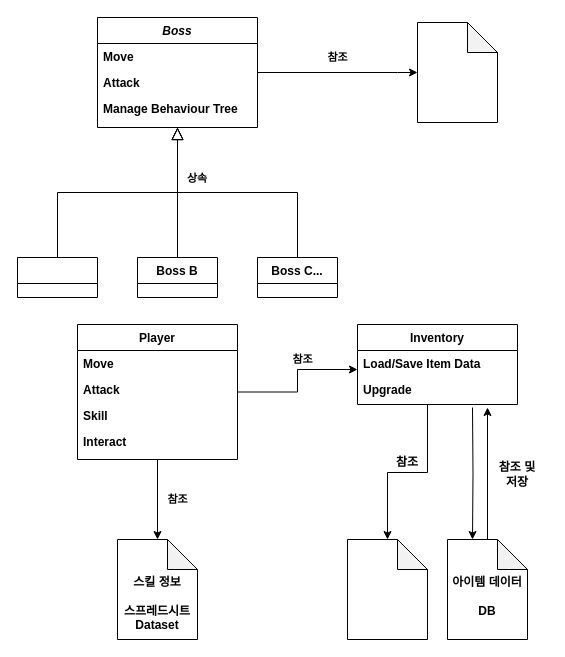
This 565x657 diagram has some shape labels left out. The shapes that lost their labels are listed below. From the top down, each one's centre as x and y in pixels, then its label:
the point at 457,72: 보스 정보 스프레드시트 Dataset
the point at 57,277: Boss A
the point at 387,589: 아이템 정보 스프레드시트 Dataset
